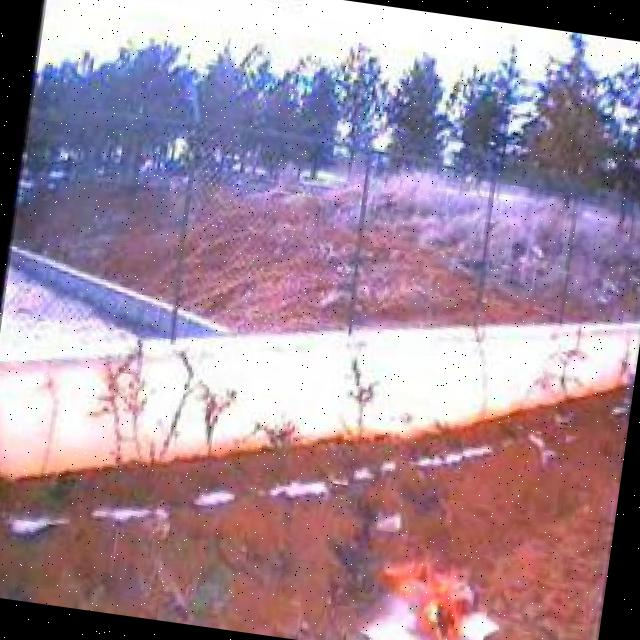fire: (354, 541, 494, 640)
